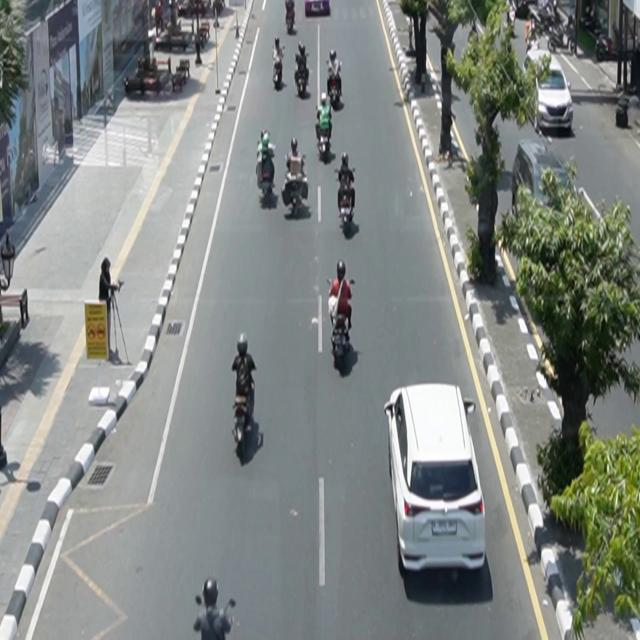car: (385, 383, 488, 576)
